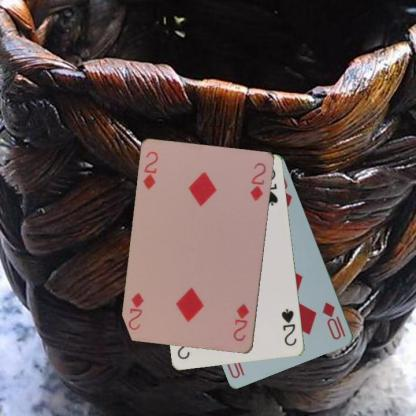10d: (320, 300, 347, 342)
2d: (140, 149, 160, 192), (230, 301, 250, 343)
2s: (279, 306, 298, 348)
